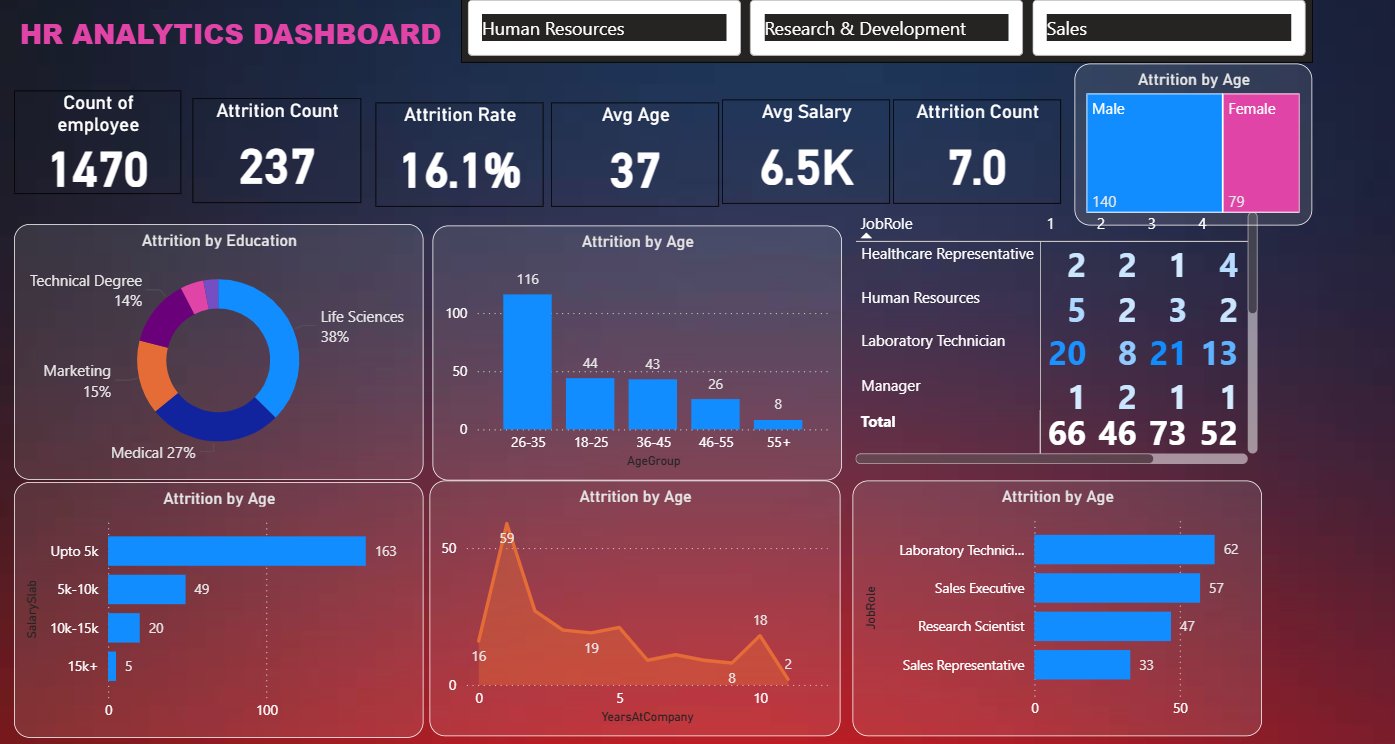

The page's visual inventory and layout, read from the dashboard file:
{"tool":"powerbi","page":{"name":"Page 1","canvas":[1280,720],"ordinal":0},"visuals":[{"type":"card","title":"Count of employee","fields":{"Values":["CountNonNull(HR_Analytics.EmpID)"]},"box":[12.8,87.2,148.7,92.3],"z":0},{"type":"card","title":"Attrition Count","fields":{"Values":["Sum(HR_Analytics.AttritionCount)"]},"box":[171.8,93.6,150,93.6],"z":1},{"type":"card","title":"Attrition Rate","fields":{"Values":["HR_Analytics.AttritionRate"]},"box":[334.9,97.6,149.4,92.8],"z":2},{"type":"card","title":"Avg Age","fields":{"Values":["Avg(HR_Analytics.Age)"]},"box":[490.4,97.6,149.4,92.8],"z":3},{"type":"card","title":"Avg Salary","fields":{"Values":["Avg(HR_Analytics.MonthlyIncome)"]},"box":[642.2,95.2,149.4,92.8],"z":4},{"type":"card","title":"Attrition Count","fields":{"Values":["Avg(HR_Analytics.YearsAtCompany)"]},"box":[795.2,95.2,149.4,92.8],"z":5},{"type":"donutChart","title":"Attrition by Education","fields":{"Y":["Sum(HR_Analytics.AttritionCount)"],"Category":["HR_Analytics.EducationField"]},"box":[12.7,205.9,363.8,227],"z":6},{"type":"columnChart","title":"Attrition by Age","fields":{"Y":["Sum(HR_Analytics.AttritionCount)"],"Category":["HR_Analytics.AgeGroup"]},"box":[385.5,206,363.9,226.5],"z":7},{"type":"pivotTable","fields":{"Rows":["HR_Analytics.JobRole"],"Columns":["HR_Analytics.JobSatisfaction"],"Values":["Sum(HR_Analytics.AttritionCount)"]},"box":[755.7,188.9,368,234.1],"z":8},{"type":"barChart","title":"Attrition by Age","fields":{"Category":["HR_Analytics.SalarySlab"],"Y":["Sum(HR_Analytics.AttritionCount)"]},"box":[12.7,434.3,363.8,227],"z":9},{"type":"barChart","title":"Attrition by Age","fields":{"Y":["Sum(HR_Analytics.AttritionCount)"],"Category":["HR_Analytics.JobRole"]},"box":[758.6,432.9,363.8,227],"z":11},{"type":"areaChart","title":"Attrition by Age","fields":{"Category":["HR_Analytics.YearsAtCompany"],"Y":["Sum(HR_Analytics.AttritionCount)"]},"box":[382.1,432.9,365.2,227],"z":12},{"type":"treemap","title":"Attrition by Age","fields":{"Group":["HR_Analytics.Gender"],"Values":["Sum(HR_Analytics.AttritionCount)"]},"box":[955.9,62,211.5,143.8],"z":13},{"type":"advancedSlicerVisual","fields":{"Values":["HR_Analytics.Department"]},"box":[410.3,0,757.1,62],"z":14},{"type":"textbox","box":[12.8,12.8,397.4,53.8],"z":15}]}

Visuals, with their boxes on the page's 1280x720 design canvas (x1, y1, x2, y2). These are canvas units, not pixel positions in the 1395x744 screenshot, which may show the page scaled, cropped or inside an application window:
"Count of employee" card: locate(13, 87, 162, 180)
"Attrition Count" card: locate(172, 94, 322, 187)
"Attrition Rate" card: locate(335, 98, 484, 190)
"Avg Age" card: locate(490, 98, 640, 190)
"Avg Salary" card: locate(642, 95, 792, 188)
"Attrition Count" card: locate(795, 95, 945, 188)
"Attrition by Education" donutChart: locate(13, 206, 376, 433)
"Attrition by Age" columnChart: locate(386, 206, 749, 432)
pivotTable - HR_Analytics.JobRole x HR_Analytics.JobSatisfaction: locate(756, 189, 1124, 423)
"Attrition by Age" barChart: locate(13, 434, 376, 661)
"Attrition by Age" barChart: locate(759, 433, 1122, 660)
"Attrition by Age" areaChart: locate(382, 433, 747, 660)
"Attrition by Age" treemap: locate(956, 62, 1167, 206)
advancedSlicerVisual - HR_Analytics.Department: locate(410, 0, 1167, 62)
textbox: locate(13, 13, 410, 67)
